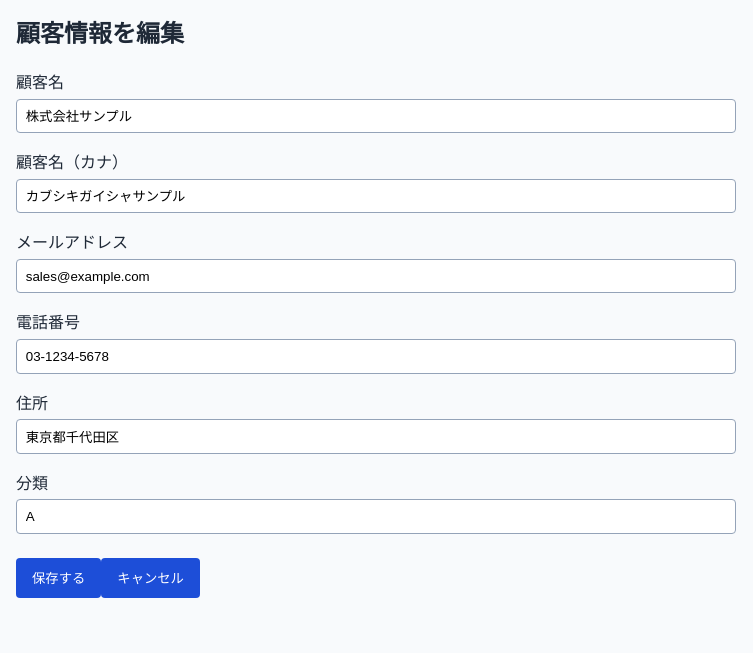
Scenario: CustomerEditScreen › shows PATCH errors and keeps the authenticated screen
The image size is (753, 653).
Replace the text in the field labelled "顧客名" with "更新後" at (376, 116), box [16,98,736,133]
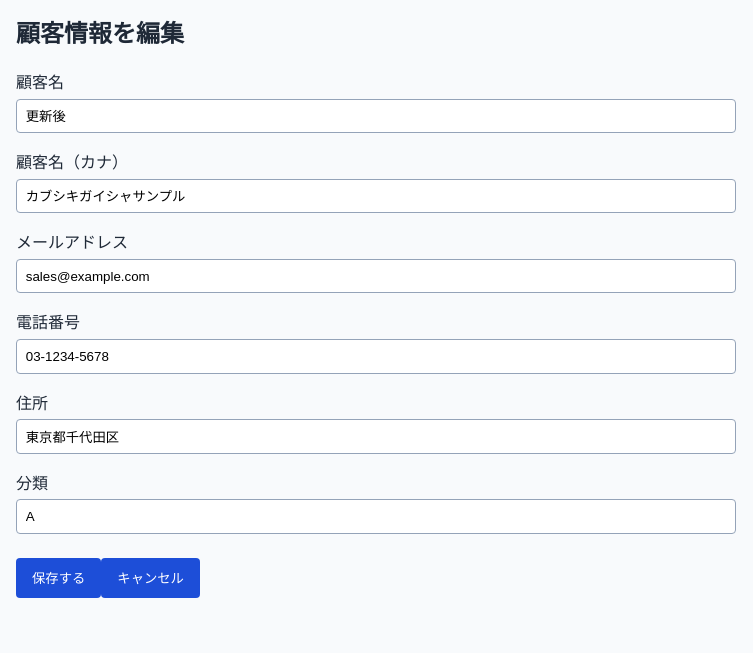
Click the button "保存する".
click(59, 578)  # box [16,558,101,598]
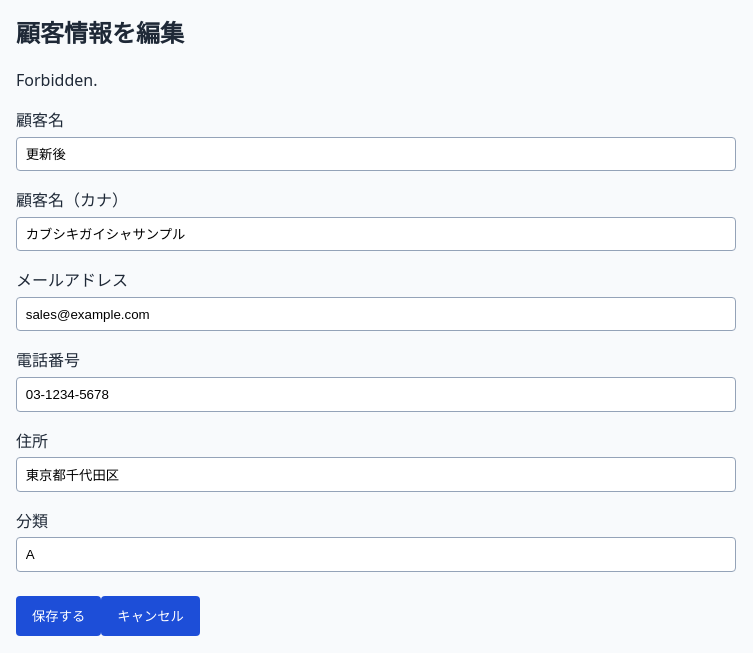
Expected: the heading "顧客情報を編集" is shown, [16,16,184,49]
Now the message reads "Forbidden.", box [16,69,98,91]
